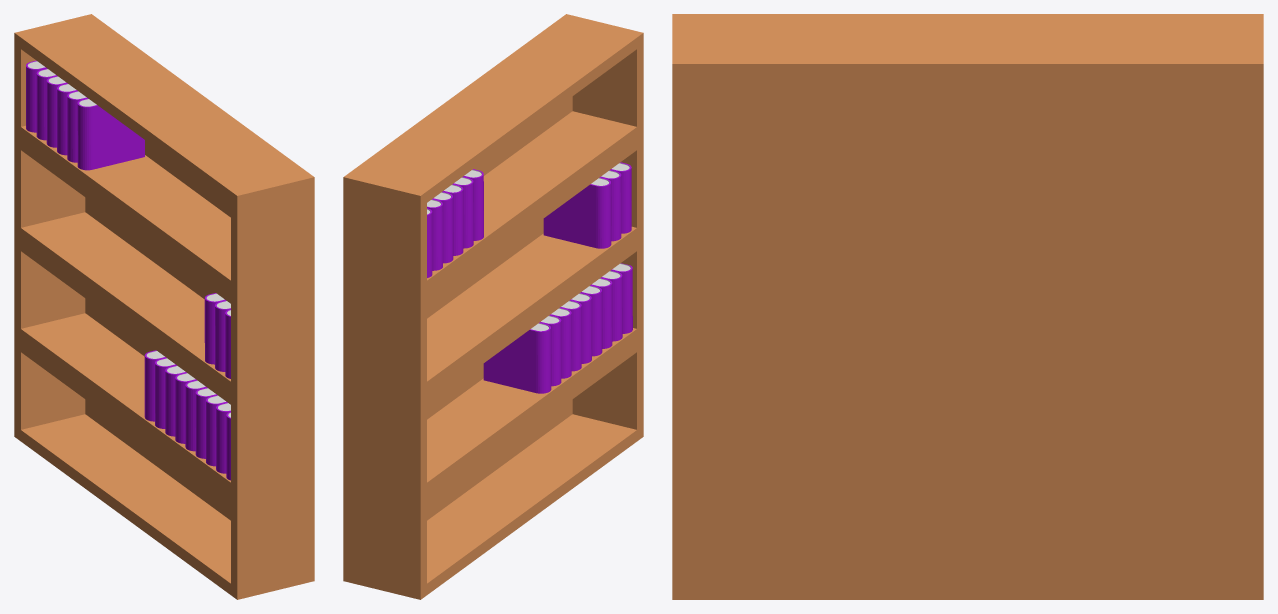
Rendered from libreroMorado.glb.
3 renders of one model, left to right at view 1: azimuth 30°, elevation 25°; view 2: azimuth 150°, elevation 25°; view 3: azimuth 270°, elevation 25°, orthographic. The views are drawn at different scales.
Parts seen in each view (by area): view 1: Librero; view 2: Librero; view 3: Librero.
Boxes of the visible parts, <box> form: Librero: <box>14,14,314,599</box>; Librero: <box>343,14,643,599</box>; Librero: <box>672,14,1263,599</box>.
Bounding box in the file's own units: 0.67 × 3.35 × 3.35.
